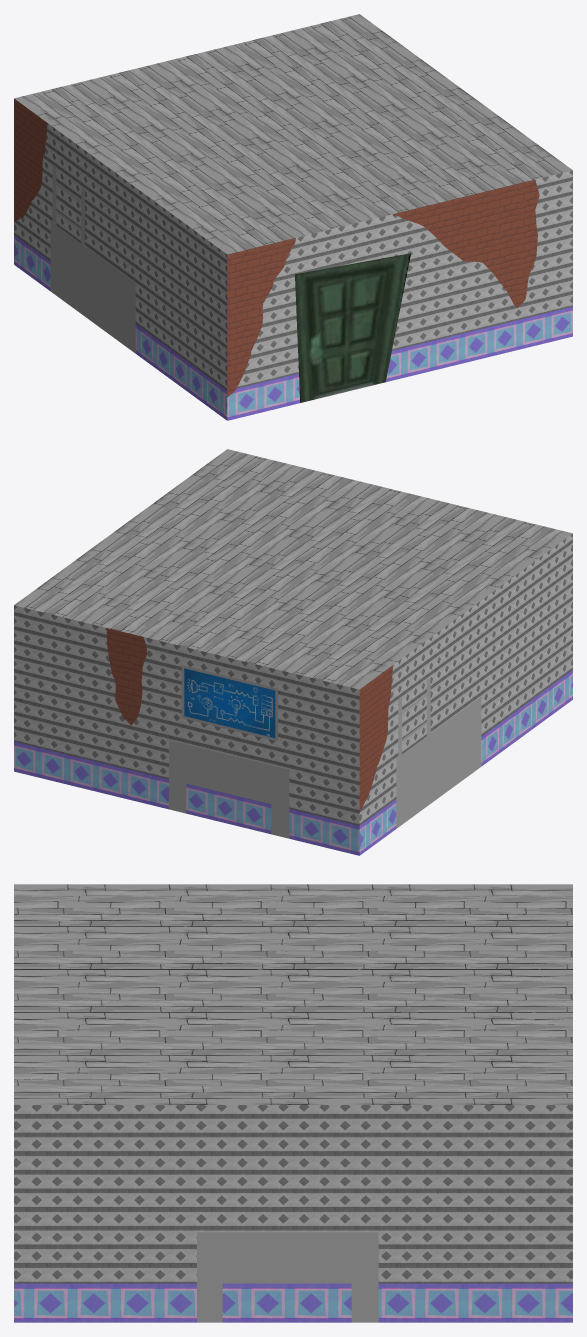
The picture shows the model from 3 angles, top to bottom: view 1: azimuth 30°, elevation 25°; view 2: azimuth 150°, elevation 25°; view 3: azimuth 270°, elevation 25°; orthographic projection. The views are drawn at different scales.
Parts seen in each view (by area): view 1: Untitled-SKP--Texture_1.001, Untitled-SKP--Texture_2.001, Untitled-SKP--Texture_3.001, Untitled-SKP--122135.001, Untitled-SKP--Texture_11.001, Untitled-SKP--Default_Material.009; view 2: Untitled-SKP--Texture_1.001, Untitled-SKP--Texture_2.001, Untitled-SKP--Default_Material.009, Untitled-SKP--Texture_11.001, Untitled-SKP--Texture_3.001, Untitled-SKP--WiP.001; view 3: Untitled-SKP--Texture_1.001, Untitled-SKP--Texture_2.001, Untitled-SKP--Texture_11.001, Untitled-SKP--Default_Material.009.
Part boxes in pixels (x1,y1,x2,y2): Untitled-SKP--Texture_1.001: (14, 14, 572, 254); Untitled-SKP--Texture_2.001: (14, 123, 572, 390); Untitled-SKP--Texture_3.001: (14, 98, 539, 397); Untitled-SKP--122135.001: (295, 253, 410, 402); Untitled-SKP--Texture_11.001: (14, 235, 572, 420); Untitled-SKP--Default_Material.009: (50, 165, 135, 353); Untitled-SKP--Texture_1.001: (14, 449, 572, 689); Untitled-SKP--Texture_2.001: (14, 533, 572, 825); Untitled-SKP--Default_Material.009: (169, 665, 481, 838); Untitled-SKP--Texture_11.001: (14, 670, 572, 855); Untitled-SKP--Texture_3.001: (106, 628, 392, 812); Untitled-SKP--WiP.001: (184, 668, 275, 737); Untitled-SKP--Texture_1.001: (14, 884, 572, 1104); Untitled-SKP--Texture_2.001: (14, 1105, 572, 1283); Untitled-SKP--Texture_11.001: (14, 1283, 572, 1322); Untitled-SKP--Default_Material.009: (197, 1232, 378, 1322).
Bounding box in the file's own units: 69287 × 31899 × 74116.
29 materials, 28 textured.
